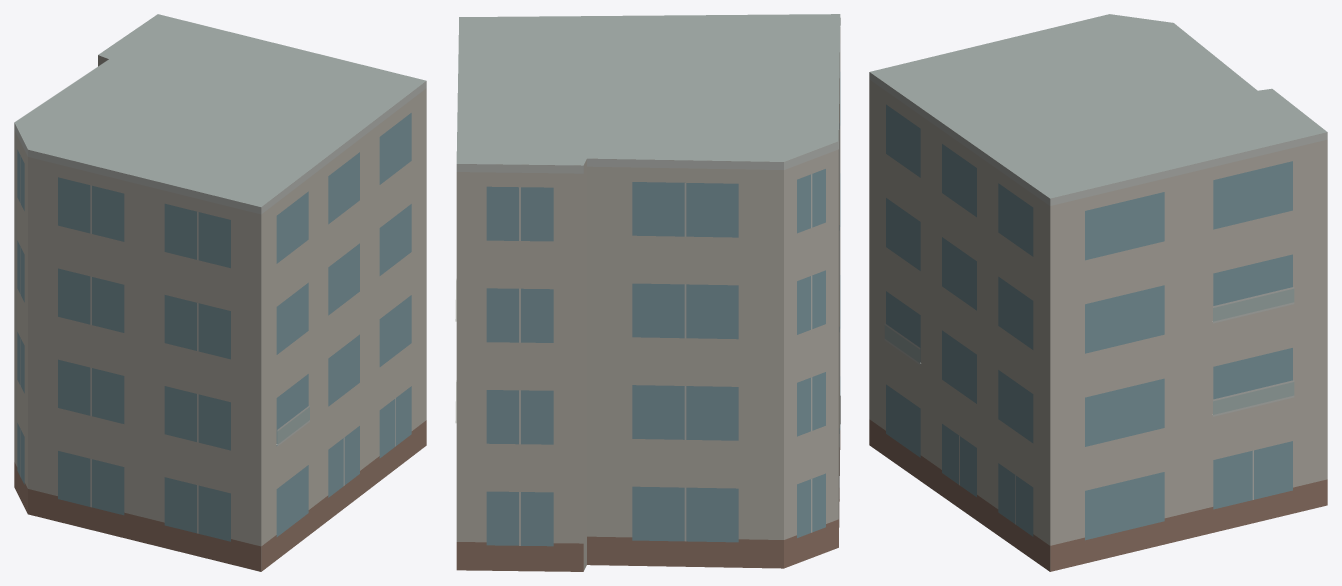
Rendered from survey-upis-32721961.glb.
3 renders of one model, left to right at view 1: azimuth 30°, elevation 25°; view 2: azimuth 150°, elevation 25°; view 3: azimuth 270°, elevation 25°, orthographic. The views are drawn at different scales.
Visible parts, largest first — view 1: survey-upis-32721961.tmp; view 2: survey-upis-32721961.tmp; view 3: survey-upis-32721961.tmp.
Part boxes in pixels (x1,y1,x2,y2): survey-upis-32721961.tmp: (14,14,426,571); survey-upis-32721961.tmp: (455,14,840,571); survey-upis-32721961.tmp: (869,14,1327,571).
Bounding box in the file's own units: 12.95 × 12.2 × 13.58.
